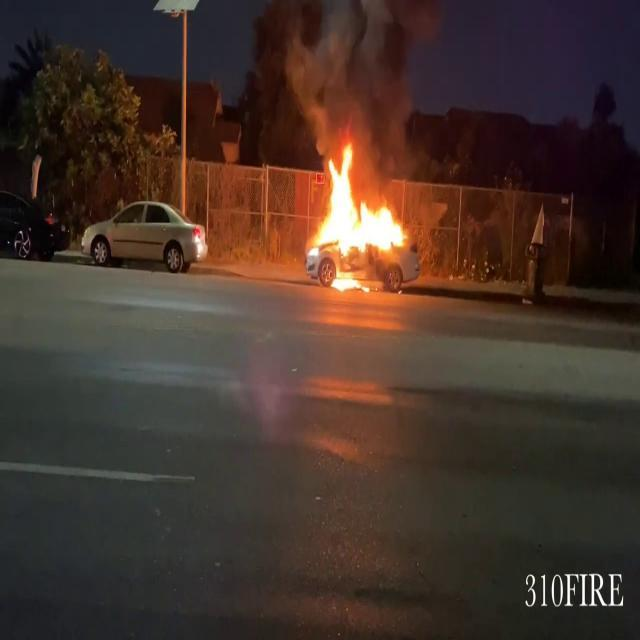Fire: (304, 138, 414, 282)
Smoke: (276, 0, 438, 151)
